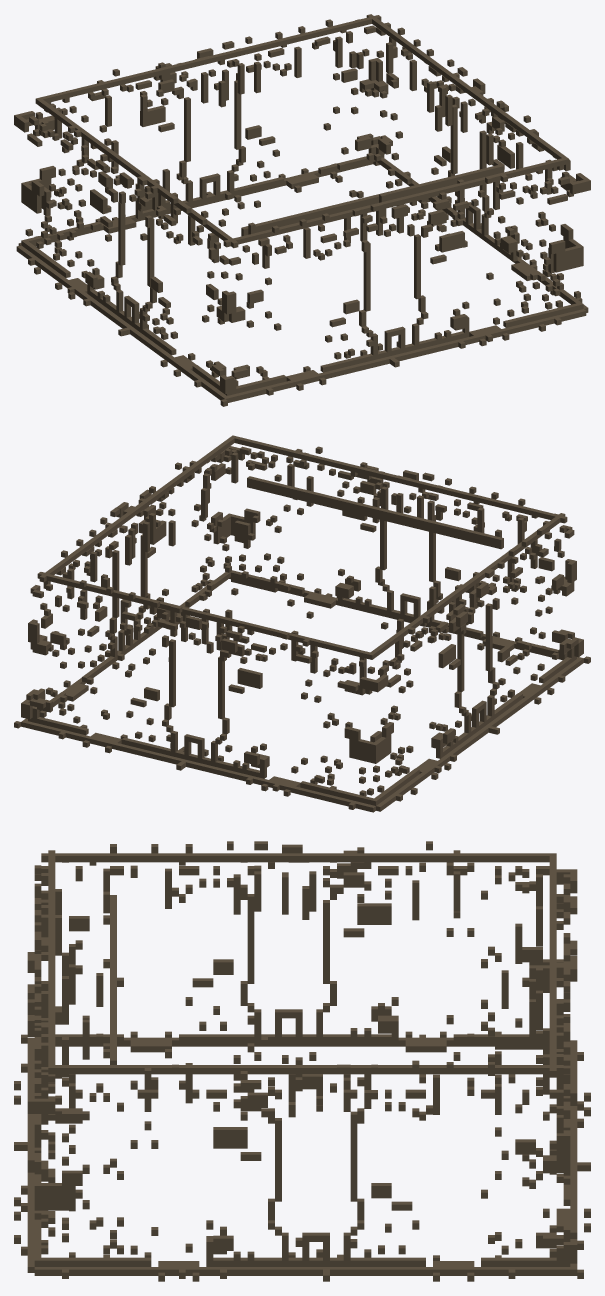
The model's file is desertbuilding-1.obj.
3 renders of one model, top to bottom at view 1: azimuth 30°, elevation 25°; view 2: azimuth 150°, elevation 25°; view 3: azimuth 270°, elevation 25°, orthographic. The views are drawn at different scales.
Size of the model in its own units: 8.4 by 3.3 by 8.4.
1 material, 1 textured.
